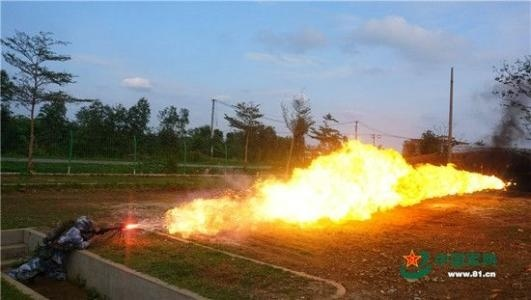fire: (152, 132, 510, 232)
